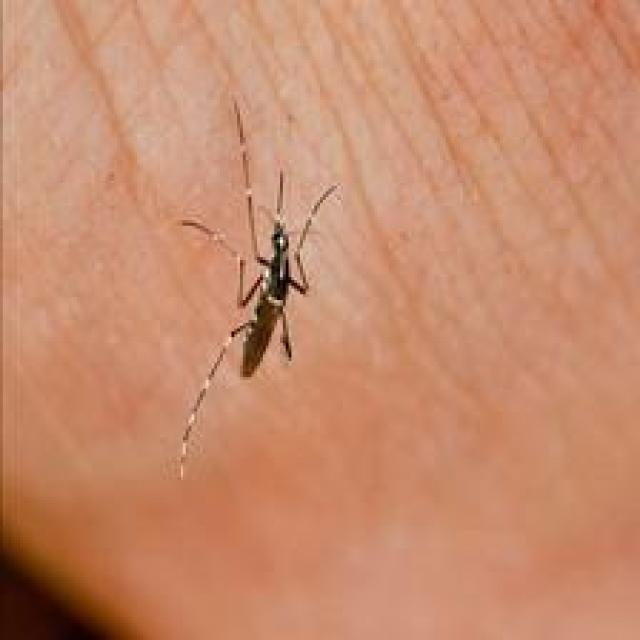Aedes albopictus: (171, 97, 340, 480)
